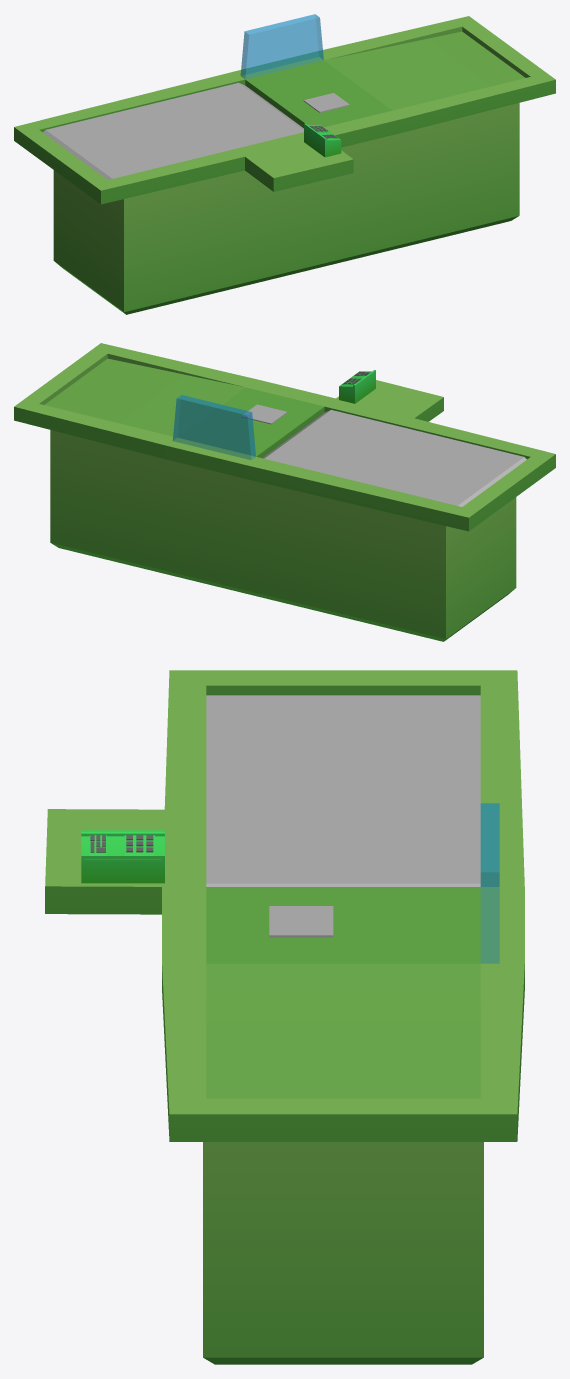
Rendered from checkout_green.fbx.
3 renders of one model, top to bottom at view 1: azimuth 30°, elevation 25°; view 2: azimuth 150°, elevation 25°; view 3: azimuth 270°, elevation 25°, orthographic. The views are drawn at different scales.
Parts seen in each view (by area): view 1: checkout_green, register_green; view 2: checkout_green, register_green; view 3: checkout_green, register_green.
Boxes of the visible parts, left/top/right/bottom form: checkout_green: left=14, top=14, right=555, bottom=314; register_green: left=304, top=123, right=341, bottom=157; checkout_green: left=14, top=343, right=555, bottom=641; register_green: left=339, top=370, right=375, bottom=403; checkout_green: left=45, top=670, right=524, bottom=1364; register_green: left=81, top=830, right=164, bottom=883.
Bounding box in the file's own units: 1571 × 611 × 717.
